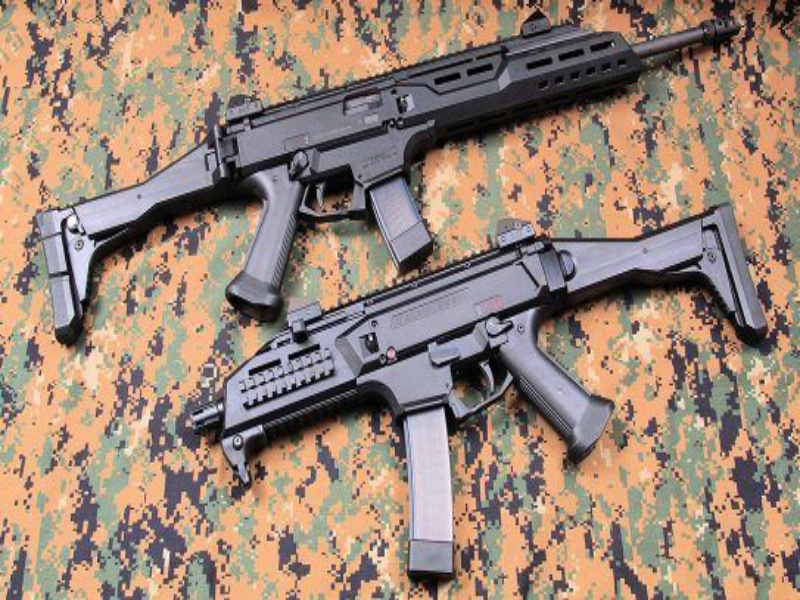gun: (36, 6, 767, 345), (179, 199, 791, 577)
